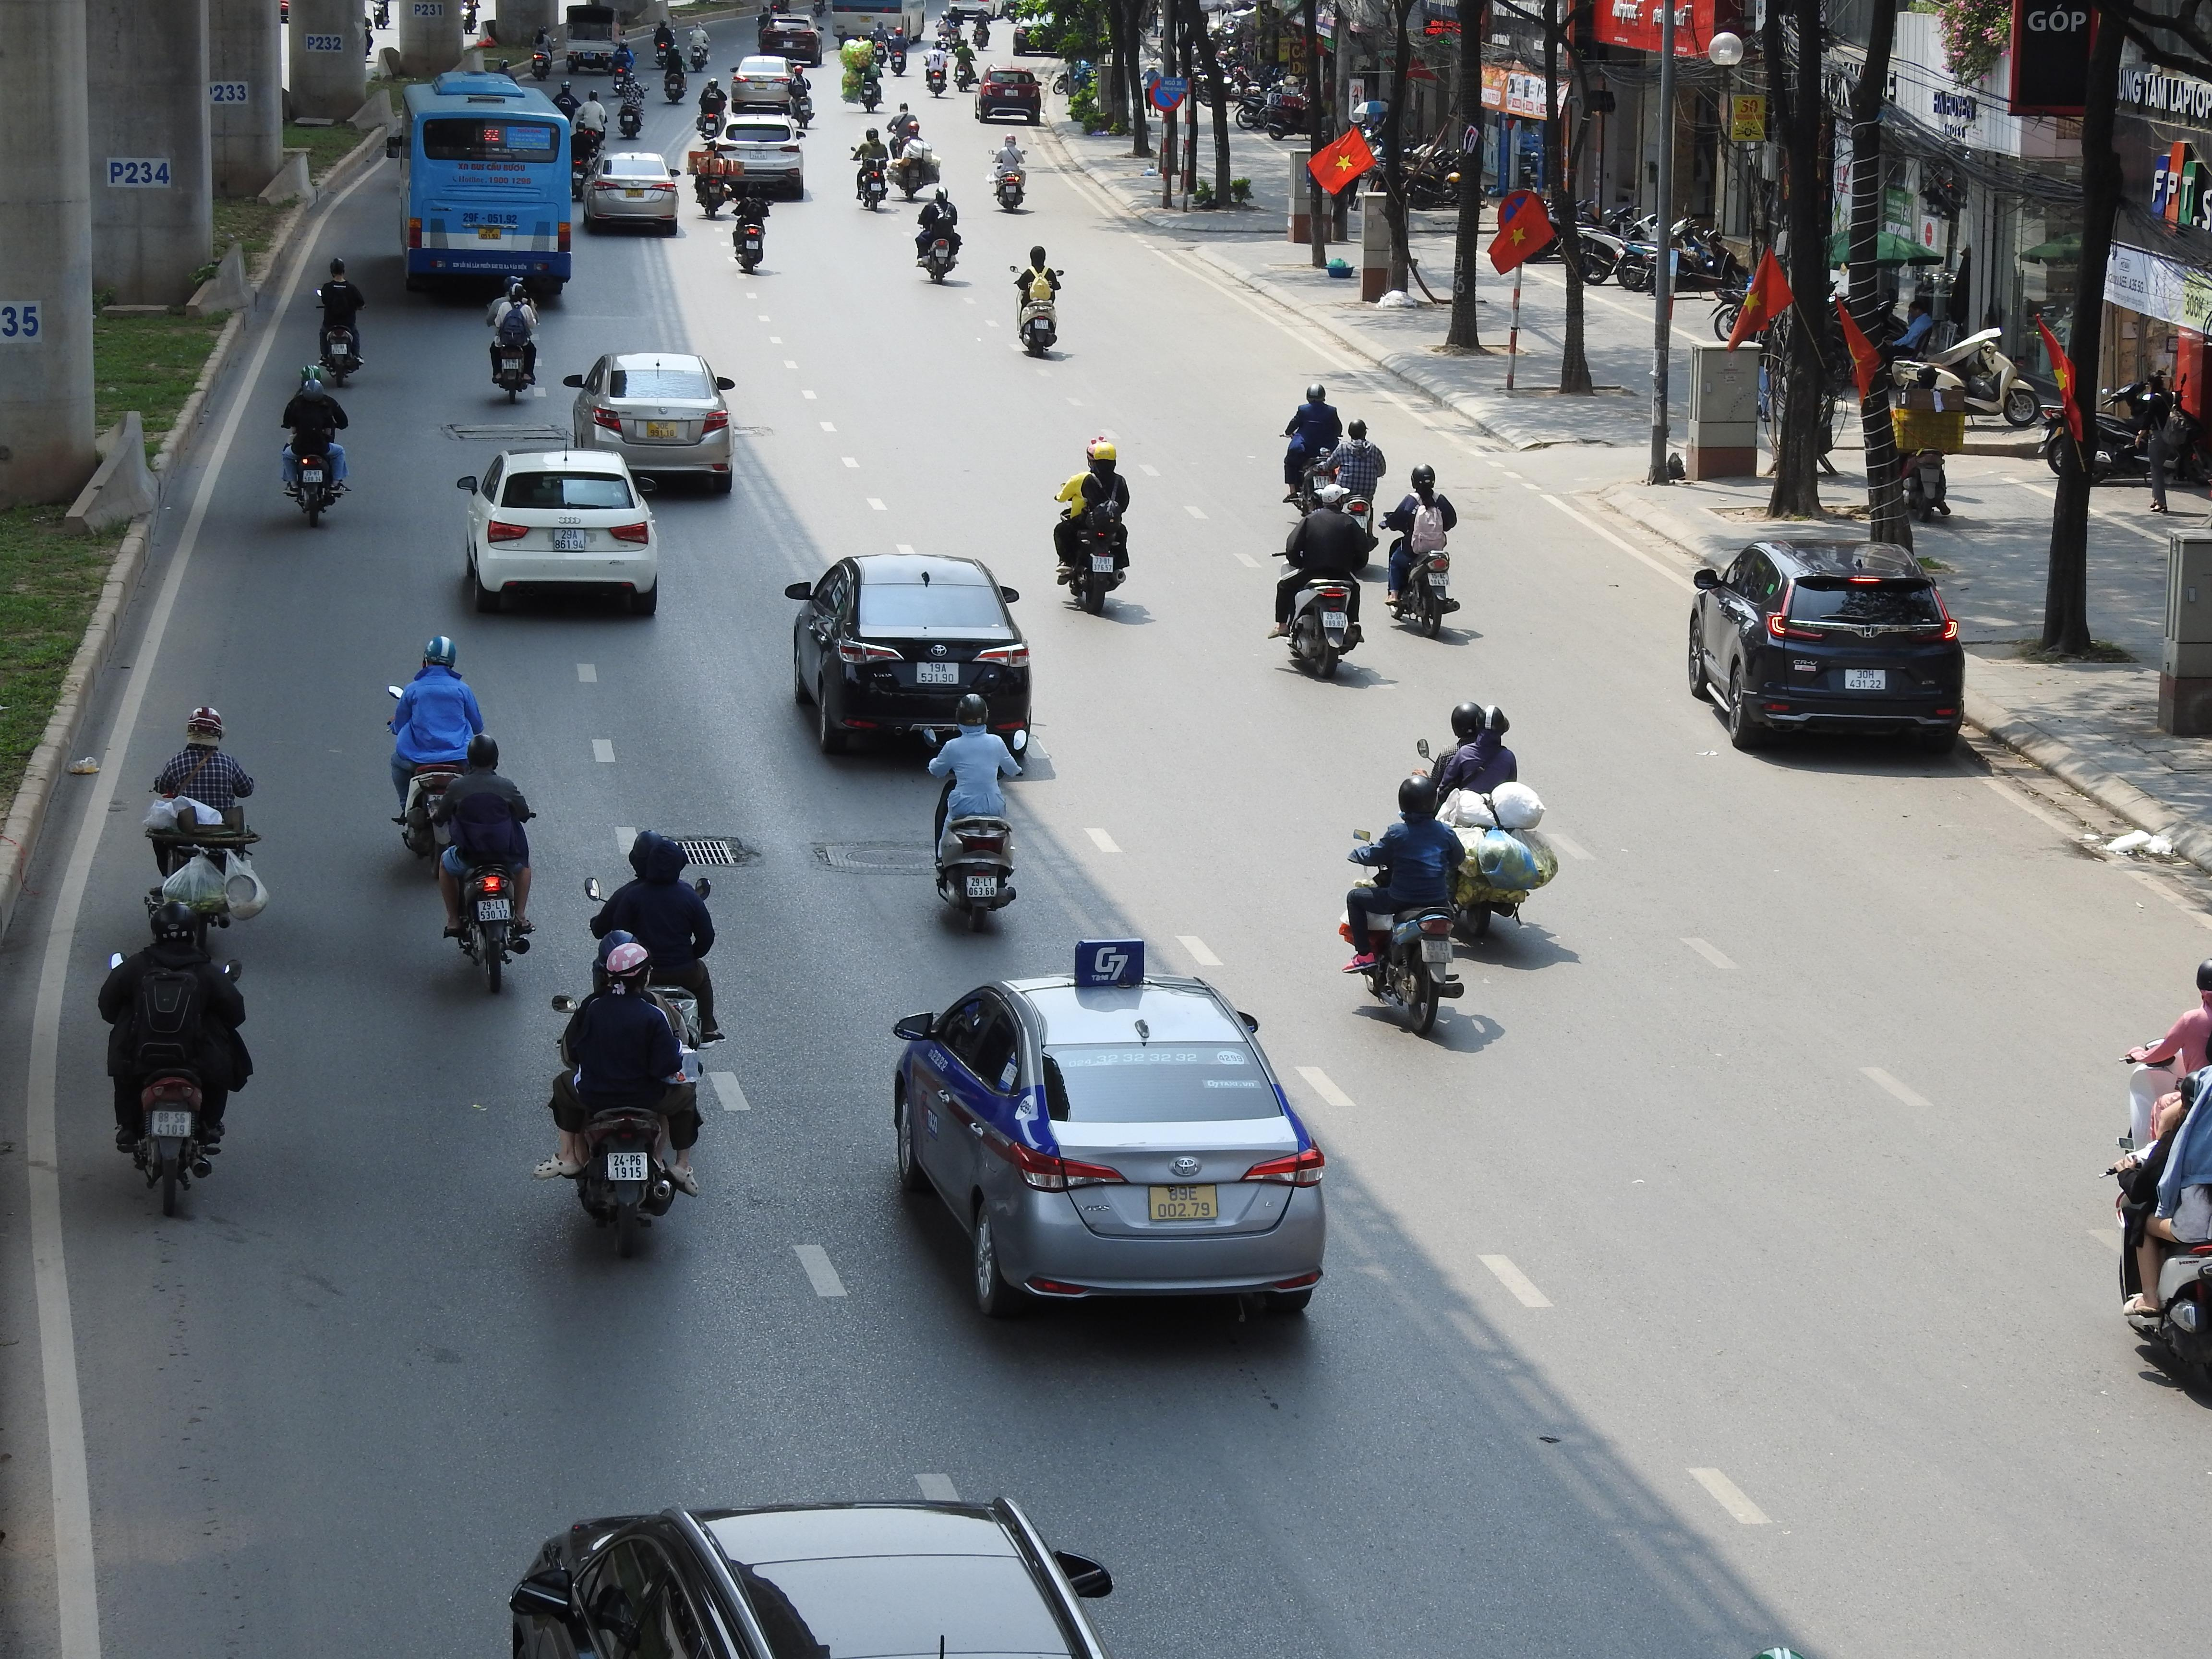BSV: (1148, 1185, 1217, 1222), (608, 1152, 648, 1182), (152, 1110, 193, 1138), (1844, 669, 1886, 692), (918, 662, 958, 685), (1421, 939, 1454, 964), (477, 897, 510, 922), (554, 528, 585, 551), (967, 877, 996, 896), (646, 420, 678, 437), (1092, 556, 1115, 573), (1322, 612, 1346, 627), (1428, 572, 1449, 586), (479, 228, 502, 240), (1352, 514, 1369, 530), (303, 471, 322, 483), (1313, 476, 1331, 488), (1035, 319, 1049, 329)
bus: (397, 73, 575, 300)
car: (888, 967, 1329, 1324), (503, 1488, 1153, 1659), (1686, 535, 1966, 753), (784, 552, 1035, 760), (456, 448, 660, 617), (563, 350, 737, 495), (695, 112, 808, 200), (582, 150, 681, 235), (974, 64, 1043, 125)
motorbike: (99, 892, 249, 1222), (547, 934, 697, 1262), (2109, 958, 2212, 1413), (1411, 699, 1557, 939), (1343, 770, 1468, 1042), (585, 828, 726, 1066), (143, 704, 265, 945), (437, 735, 536, 995), (387, 634, 486, 863), (930, 694, 1021, 936), (2041, 375, 2209, 493), (1273, 477, 1369, 683), (1052, 434, 1132, 619), (1381, 464, 1461, 641), (1892, 340, 2038, 430), (280, 364, 350, 528), (1890, 364, 1959, 516), (1618, 207, 1737, 295), (1317, 416, 1386, 537), (1282, 382, 1345, 512), (486, 274, 540, 404), (314, 258, 366, 387), (1012, 242, 1064, 359), (913, 179, 963, 284), (730, 171, 772, 275), (890, 118, 941, 200), (852, 124, 892, 213), (989, 132, 1028, 214), (784, 63, 817, 134), (693, 77, 730, 141), (617, 68, 648, 141), (658, 40, 690, 106), (857, 44, 885, 113), (683, 14, 712, 73), (923, 38, 953, 96), (528, 26, 557, 80)
